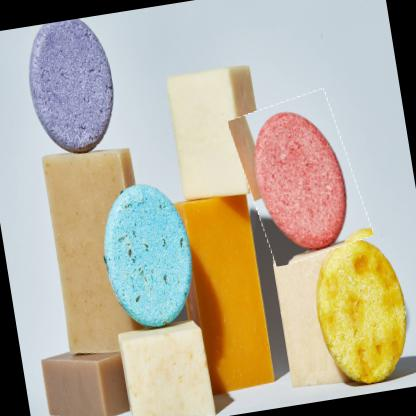soap: (230, 88, 369, 268)
